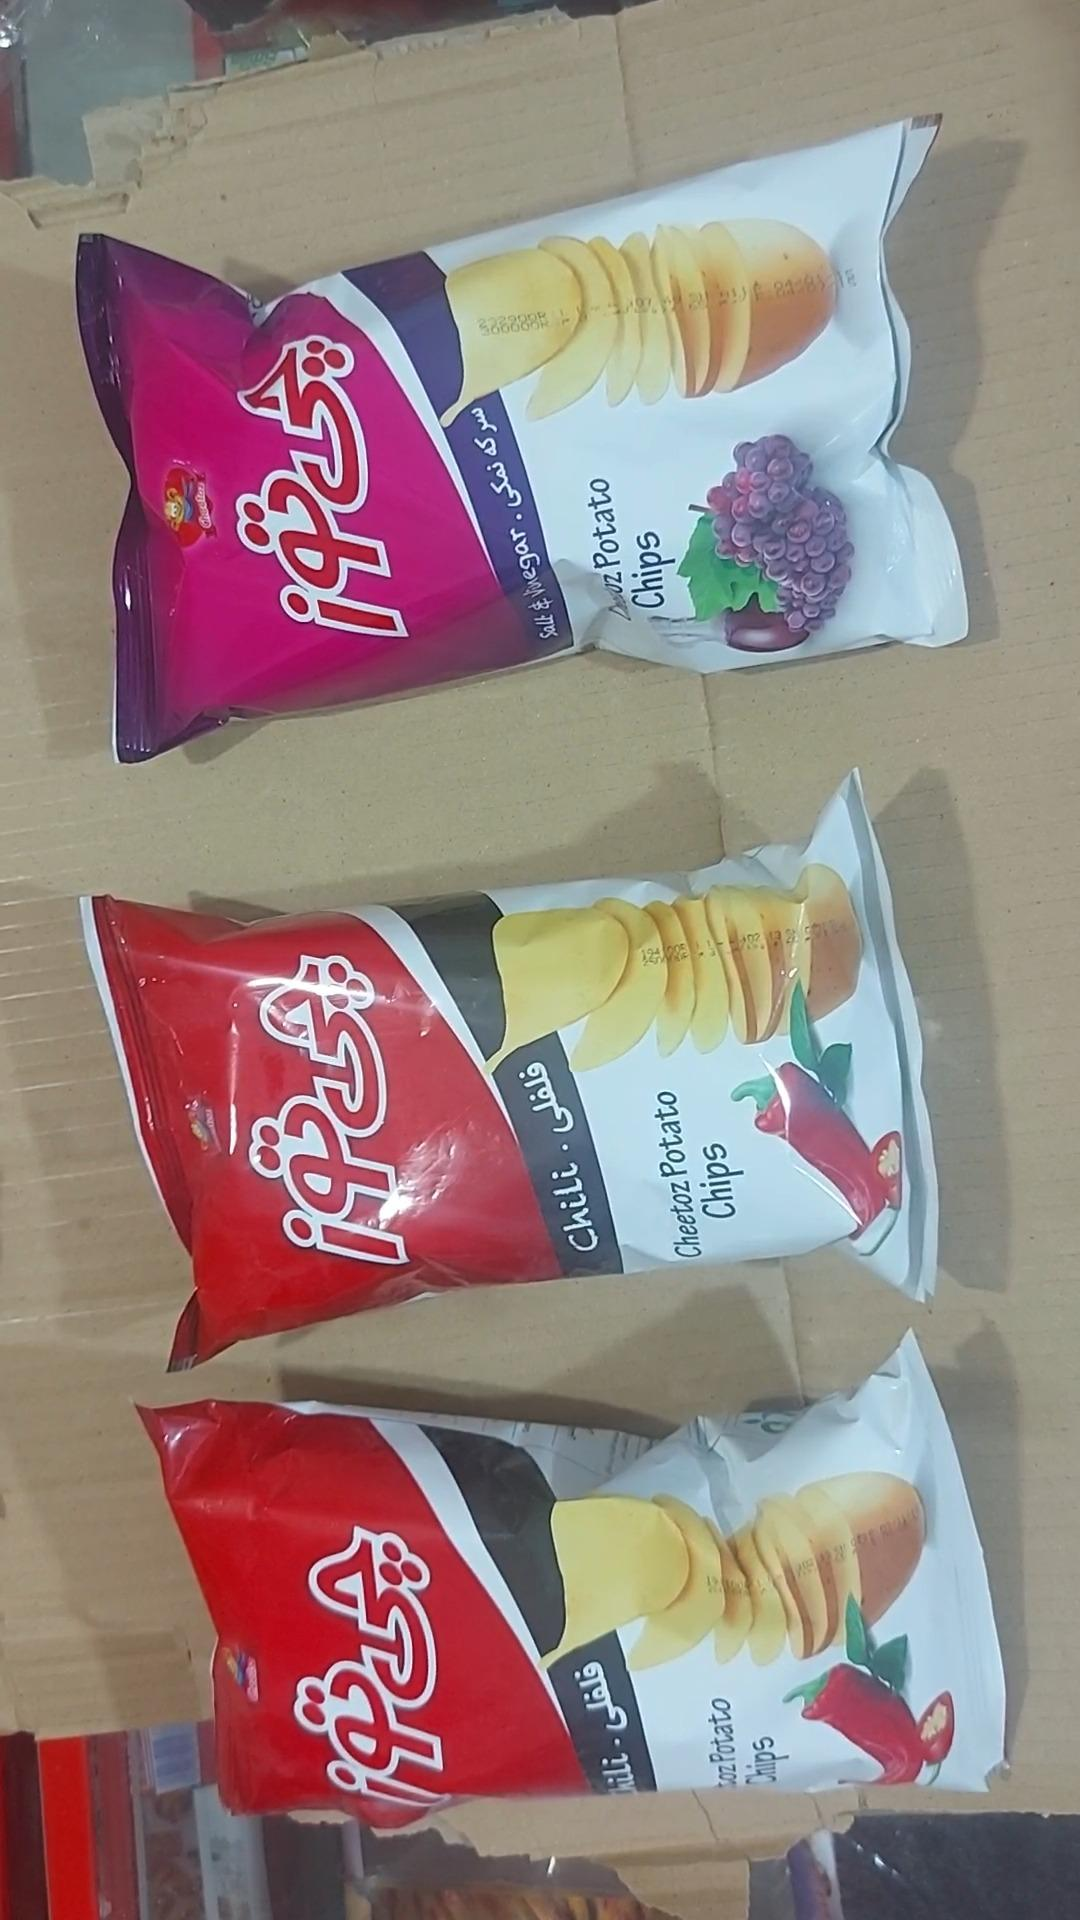Cheetoz chili chips: (84, 779, 934, 1374), (136, 1331, 1007, 1840)
Cheetoz vinegar chips: (73, 115, 975, 767)
